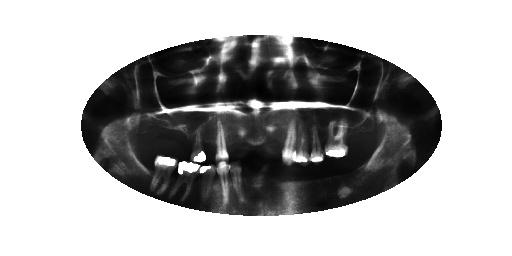i10loss: (246, 163, 256, 206)
i11healthy: (229, 162, 245, 203)
i12healthy: (216, 162, 230, 207)
i13decay: (201, 165, 215, 204)
i14healthy: (171, 163, 200, 201)
i15healthy: (149, 157, 178, 194)
i16loss: (136, 146, 154, 175)
i1loss: (361, 142, 376, 177)
i2loss: (349, 157, 361, 192)
i3loss: (336, 161, 348, 195)
i4loss: (321, 165, 336, 201)
i5loss: (307, 166, 321, 201)
i6loss: (293, 166, 306, 207)
i7loss: (282, 165, 293, 208)
i8loss: (267, 165, 281, 207)
i9loss: (256, 164, 267, 207)
u10loss: (227, 120, 239, 160)
u11healthy: (214, 119, 228, 161)
u12loss: (202, 123, 215, 161)
u13decay: (191, 126, 206, 164)
u14loss: (177, 125, 190, 159)
u15loss: (160, 123, 176, 156)
u16loss: (144, 119, 159, 155)
u1loss: (362, 116, 377, 143)
u2loss: (347, 116, 362, 153)
u3healthy: (325, 117, 349, 159)
u4healthy: (308, 120, 324, 165)
u5decay: (294, 119, 310, 165)
u6healthy: (282, 118, 296, 165)
u7loss: (269, 120, 282, 161)
u8loss: (255, 120, 269, 160)
u9loss: (239, 120, 255, 160)
